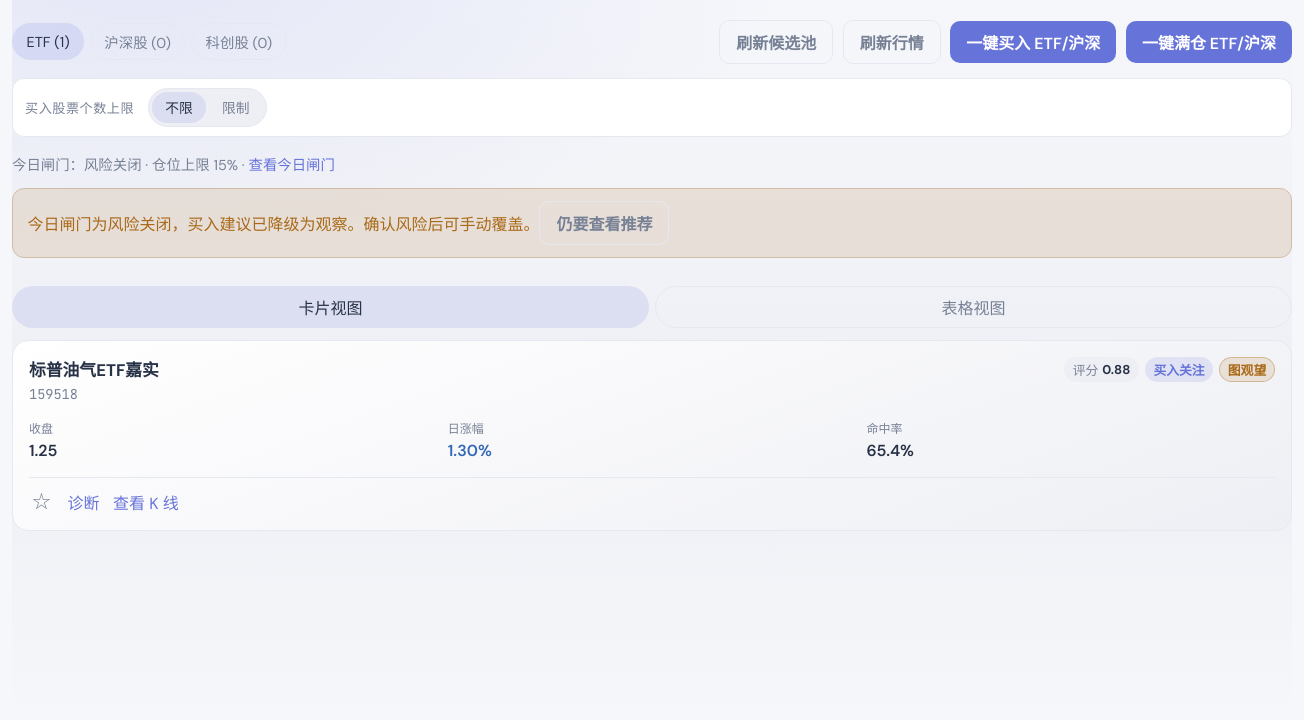
Scenario: 刷新挂图阶段展示进度，而不是停在精算 75/75
Expected: the heading "标普油气ETF嘉实" is shown, [29, 357, 159, 381]
Click the button "刷新候选池" at (776, 42), box [719, 20, 833, 64]
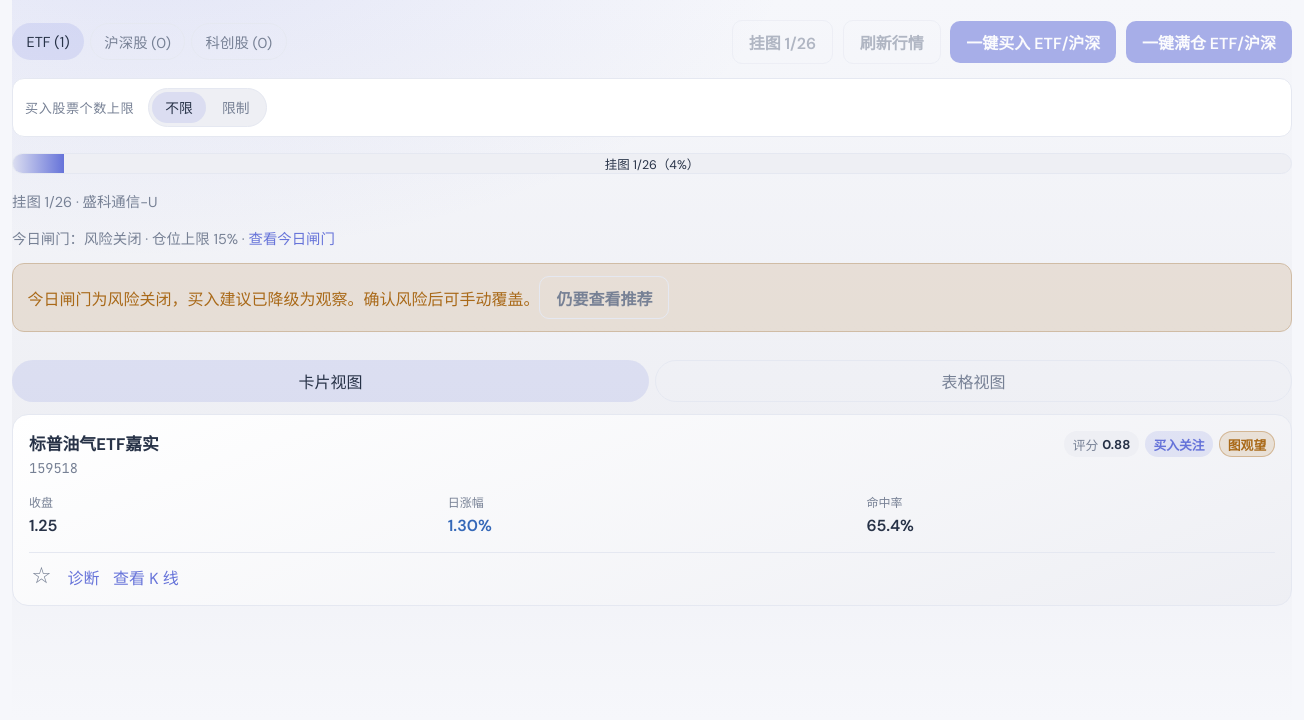
Now the text "挂图 1/26 · 盛科通信-U" is shown, box [12, 193, 157, 211]
Now the text "挂图 1/26（4%）" is shown, box [605, 157, 699, 173]
